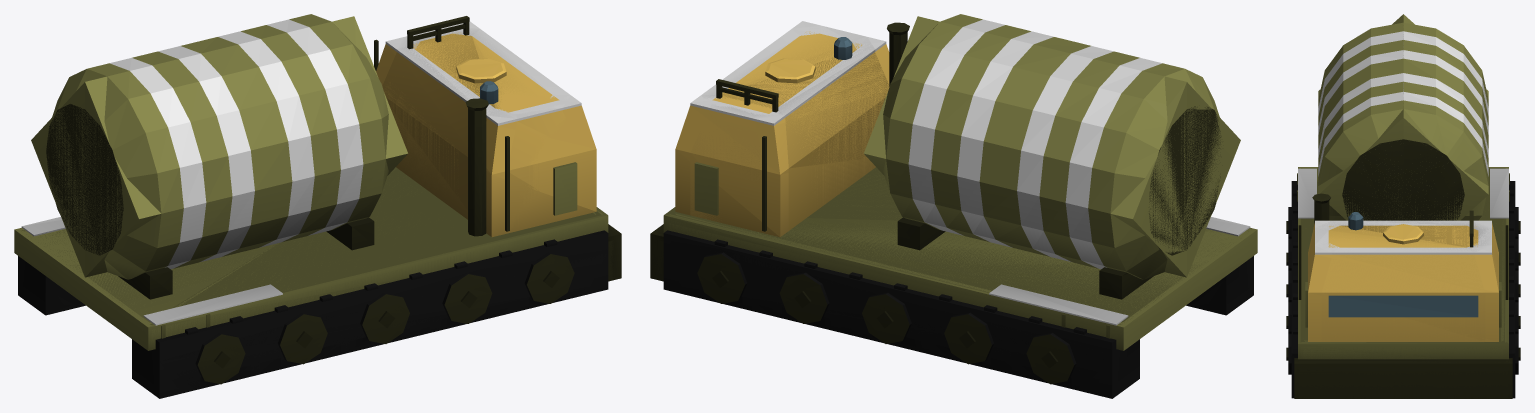
Rendered from meridian_harvester.glb.
3 renders of one model, left to right at view 1: azimuth 30°, elevation 25°; view 2: azimuth 150°, elevation 25°; view 3: azimuth 270°, elevation 25°, orthographic. The views are drawn at different scales.
Parts seen in each view (by area): view 1: hull (×3); view 2: hull (×3); view 3: hull (×3).
Part boxes in pixels (x1,y1,x2,y2): hull (×3): (14, 14, 621, 398); hull (×3): (650, 14, 1257, 398); hull (×3): (1286, 14, 1520, 398).
Bounding box in the file's own units: 6.3 × 3.4 × 3.44.
